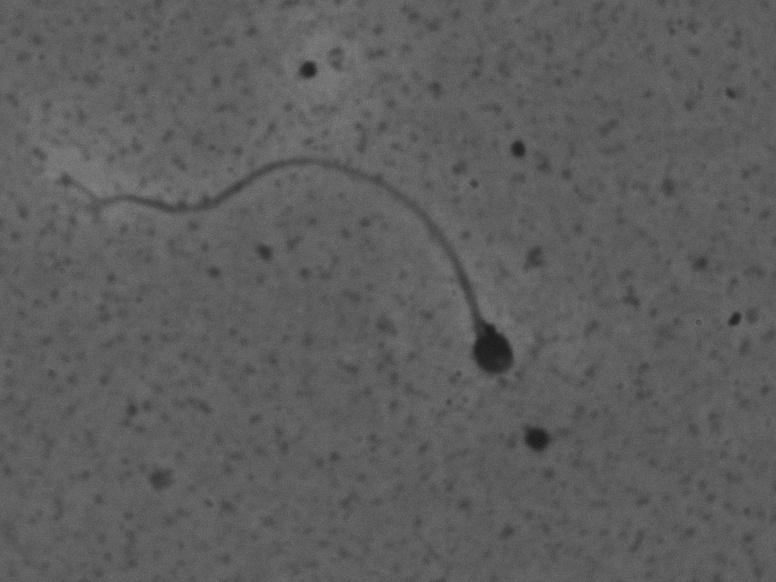Abnormal: (69, 145, 533, 391)
